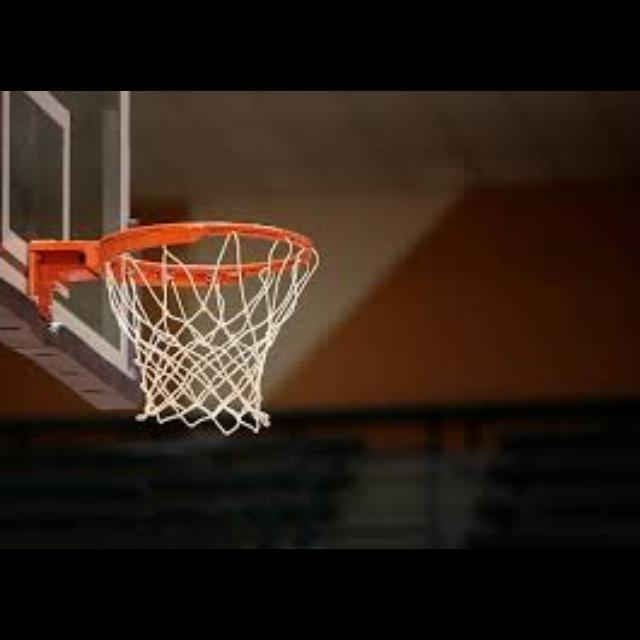rim: (100, 223, 316, 422)
